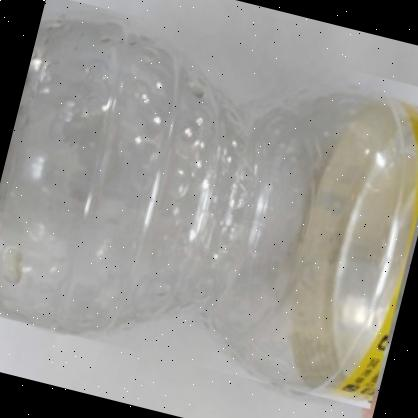bottle: (0, 0, 418, 410)
